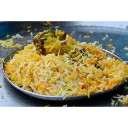briyani: (12, 27, 111, 92)
